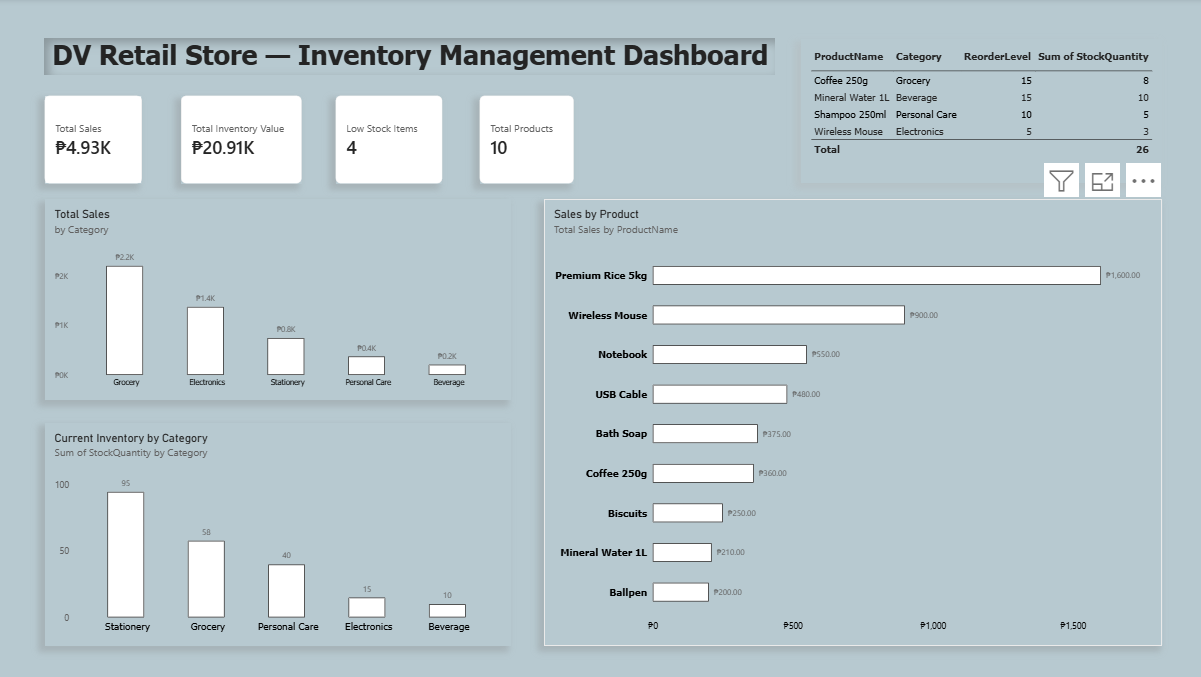

This screenshot's page, from the dashboard's own definition file:
{"tool":"powerbi","page":{"name":"Page 1","canvas":[1920,1080],"ordinal":0},"visuals":[{"type":"cardVisual","fields":{"Data":["Sales.Total Sales"]},"box":[75,155,155,140],"z":0},{"type":"cardVisual","fields":{"Data":["Inventory.Total Inventory Value"]},"box":[290,155,192.5,140],"z":1000},{"type":"cardVisual","fields":{"Data":["Inventory.Low Stock Items"]},"box":[537.5,155,170,140],"z":2000},{"type":"cardVisual","fields":{"Data":["Products.Total Products"]},"box":[765,155,150,140],"z":3000},{"type":"clusteredColumnChart","fields":{"Category":["Products.Category"],"Y":["Sales.Total Sales"]},"box":[75,320,742.5,320],"z":4000},{"type":"tableEx","title":"Low Stock Products","fields":{"Values":["Products.ProductName","Products.Category","Products.ReorderLevel","Sum(Inventory.StockQuantity)"]},"box":[1277.5,65,575,255],"z":5000},{"type":"clusteredBarChart","title":"Sales by Product","fields":{"Category":["Products.ProductName"],"Y":["Sales.Total Sales"]},"box":[867.5,340,985,690],"z":6000},{"type":"clusteredColumnChart","title":"Current Inventory by Category","fields":{"Category":["Products.Category"],"Y":["Sum(Inventory.StockQuantity)"]},"box":[75,675,742.5,355],"z":7000},{"type":"textbox","box":[75,65,1162.5,57.5],"z":8000}]}

Visuals, with their boxes in screenshot pixels (x1, y1, x2, y2), scaled from the page's 1920x1080 canvas onto the 1201x677 screenshot:
cardVisual - Sales.Total Sales: left=47, top=97, right=144, bottom=185
cardVisual - Inventory.Total Inventory Value: left=181, top=97, right=302, bottom=185
cardVisual - Inventory.Low Stock Items: left=336, top=97, right=443, bottom=185
cardVisual - Products.Total Products: left=479, top=97, right=572, bottom=185
clusteredColumnChart - Products.Category x Sales.Total Sales: left=47, top=201, right=511, bottom=401
"Low Stock Products" tableEx: left=799, top=41, right=1159, bottom=201
"Sales by Product" clusteredBarChart: left=543, top=213, right=1159, bottom=646
"Current Inventory by Category" clusteredColumnChart: left=47, top=423, right=511, bottom=646
textbox: left=47, top=41, right=774, bottom=77
